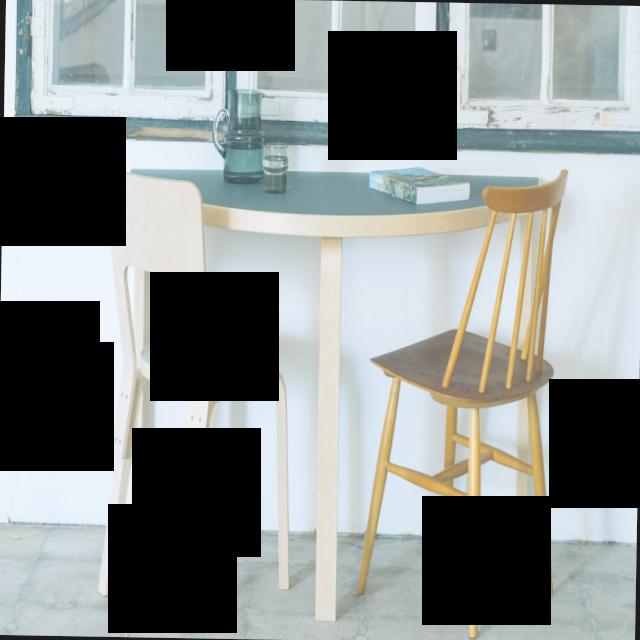chair vintage: (354, 161, 569, 640)
